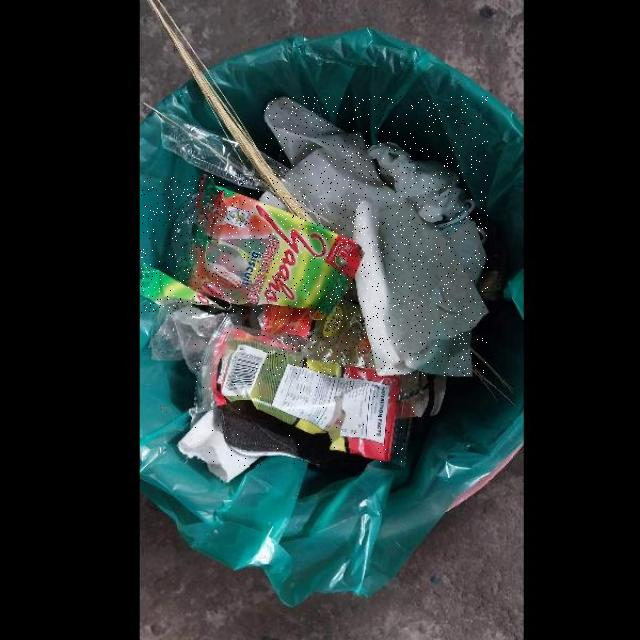paper: (264, 96, 488, 378)
wrapper: (193, 318, 418, 466), (140, 175, 364, 314)
